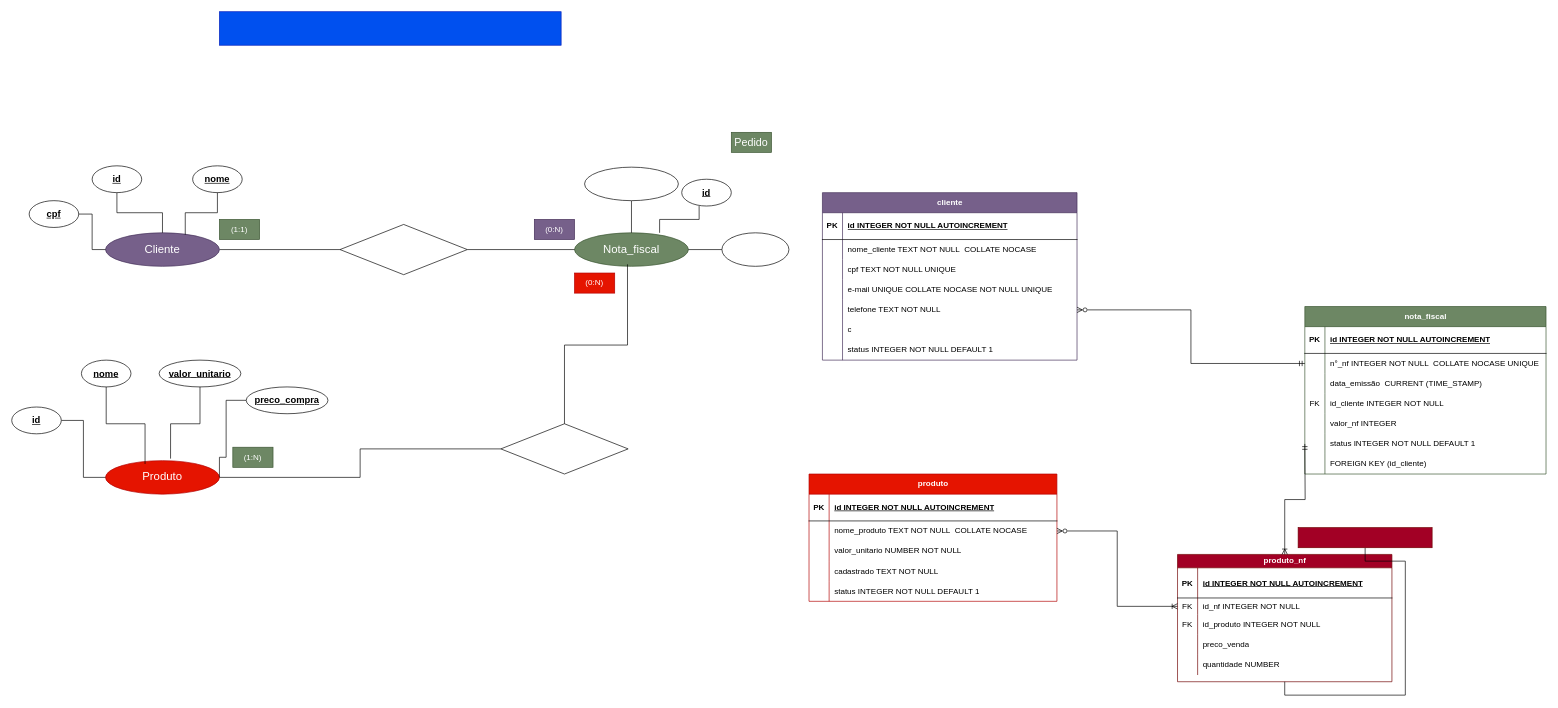
Some shapes in this 1558 by 708 pixel diagram are drawn without their labels. The box of each missing label's shape, as (x1, y1, x2, y2) in pixels:
data_requisição: (584, 166, 678, 201)
ELABORA: (339, 224, 467, 275)
n° nf: (721, 232, 789, 266)
PERTENCE: (500, 423, 628, 474)
SISTEMA DE CONTROLE DE NOTA FISCAL: (219, 11, 561, 45)
Tabela associativa: (1297, 527, 1432, 548)
